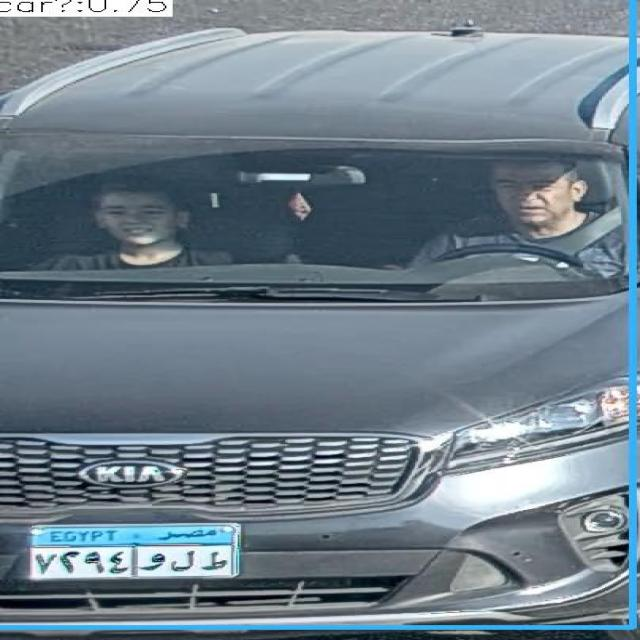Seat_belt: (335, 141, 640, 299)
